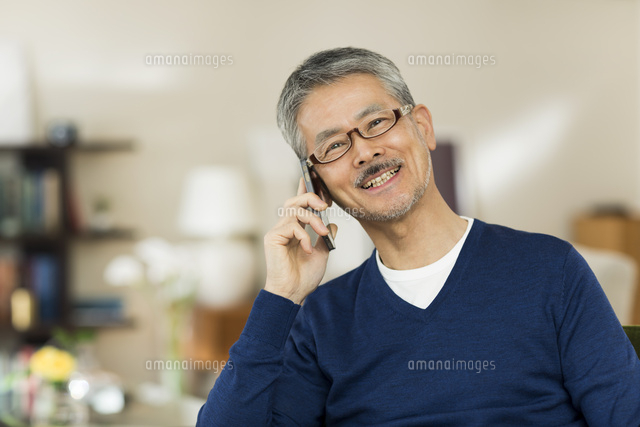phone: (276, 157, 344, 263)
talk: (257, 96, 424, 295)
